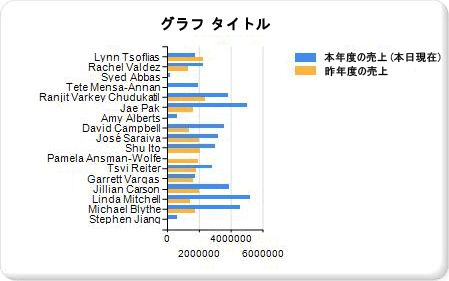canvas: (169, 45, 264, 228)
legend: (292, 47, 443, 77)
title: (160, 11, 274, 34)
x-axis: (161, 227, 267, 234)
x-labels: (163, 234, 283, 260)
y-axis: (162, 44, 170, 235)
y-labels: (39, 48, 161, 229)
